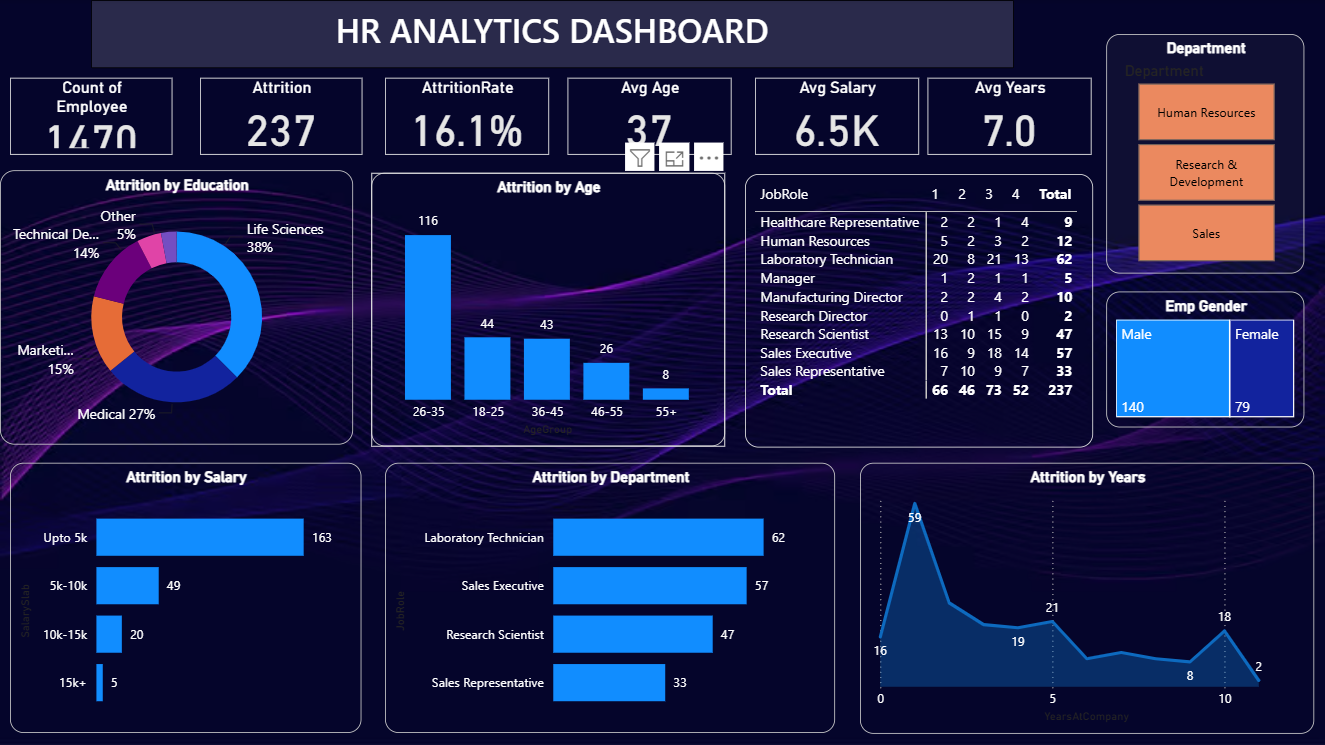

Layout of this report page (visuals, bound fields, positions):
{"tool":"powerbi","page":{"name":"Page 1","canvas":[1280,720],"ordinal":0},"visuals":[{"type":"card","title":"Count of Employee","fields":{"Values":["CountNonNull(HR_Analytics.EmpID)"]},"box":[10,75.5,156.8,74.1],"z":0},{"type":"card","title":"Avg Age","fields":{"Values":["Avg(HR_Analytics.Age)"]},"box":[547.3,75.5,158.2,74.1],"z":1000},{"type":"card","title":"Attrition","fields":{"Values":["Sum(HR_Analytics.AttritionCount)"]},"box":[192.4,75.5,156.8,74.1],"z":2000},{"type":"card","title":"AttritionRate","fields":{"Values":["HR_Analytics.AttritionRate"]},"box":[372,75.5,158.2,74.1],"z":3000},{"type":"card","title":"Avg Salary","fields":{"Values":["Avg(HR_Analytics.MonthlyIncome)"]},"box":[728.4,75.5,158.2,74.1],"z":4000},{"type":"card","title":"Avg Years","fields":{"Values":["Avg(HR_Analytics.YearsAtCompany)"]},"box":[895.1,75.5,158.2,74.1],"z":5000},{"type":"donutChart","title":"Attrition by Education","fields":{"Category":["HR_Analytics.EducationField"],"Y":["Sum(HR_Analytics.AttritionCount)"]},"box":[0,165.3,340.7,265.1],"z":6000},{"type":"columnChart","title":"Attrition by Age","fields":{"Category":["HR_Analytics.AgeGroup"],"Y":["Sum(HR_Analytics.AttritionCount)"]},"box":[358.6,167.1,341.4,264.3],"z":7000},{"type":"pivotTable","fields":{"Rows":["HR_Analytics.JobRole"],"Columns":["HR_Analytics.JobSatisfaction"],"Values":["Sum(HR_Analytics.AttritionCount)"]},"box":[718.6,168.6,335.7,264.3],"z":8000},{"type":"barChart","title":"Attrition by Salary","fields":{"Category":["HR_Analytics.SalarySlab"],"Y":["Sum(HR_Analytics.AttritionCount)"]},"box":[10,447.6,339.2,260.8],"z":9000},{"type":"barChart","title":"Attrition by Department","fields":{"Category":["HR_Analytics.JobRole"],"Y":["Sum(HR_Analytics.AttritionCount)"]},"box":[372,447.6,434.7,260.8],"z":10000},{"type":"areaChart","title":"Attrition by Years","fields":{"Category":["HR_Analytics.YearsAtCompany"],"Y":["Sum(HR_Analytics.AttritionCount)"]},"box":[830,447.1,438.6,261.4],"z":11000},{"type":"treemap","title":"Emp Gender","fields":{"Group":["HR_Analytics.Gender"],"Values":["Sum(HR_Analytics.AttritionCount)"]},"box":[1067.1,282.9,191.4,131.4],"z":12000},{"type":"slicer","title":"Department","fields":{"Values":["HR_Analytics.Department"]},"box":[1067.1,34.3,191.4,231.4],"z":13000},{"type":"textbox","box":[88.6,1.4,890,65.7],"z":13001}]}

Visuals, with their boxes in screenshot pixels (x1, y1, x2, y2), scaled from the page's 1280x720 canvas onto the 1325x745 screenshot:
"Count of Employee" card: select_region(10, 78, 173, 155)
"Avg Age" card: select_region(567, 78, 730, 155)
"Attrition" card: select_region(199, 78, 361, 155)
"AttritionRate" card: select_region(385, 78, 549, 155)
"Avg Salary" card: select_region(754, 78, 918, 155)
"Avg Years" card: select_region(927, 78, 1090, 155)
"Attrition by Education" donutChart: select_region(0, 171, 353, 445)
"Attrition by Age" columnChart: select_region(371, 173, 725, 446)
pivotTable - HR_Analytics.JobRole x HR_Analytics.JobSatisfaction: select_region(744, 174, 1091, 448)
"Attrition by Salary" barChart: select_region(10, 463, 361, 733)
"Attrition by Department" barChart: select_region(385, 463, 835, 733)
"Attrition by Years" areaChart: select_region(859, 463, 1313, 733)
"Emp Gender" treemap: select_region(1105, 293, 1303, 429)
"Department" slicer: select_region(1105, 35, 1303, 275)
textbox: select_region(92, 1, 1013, 69)
